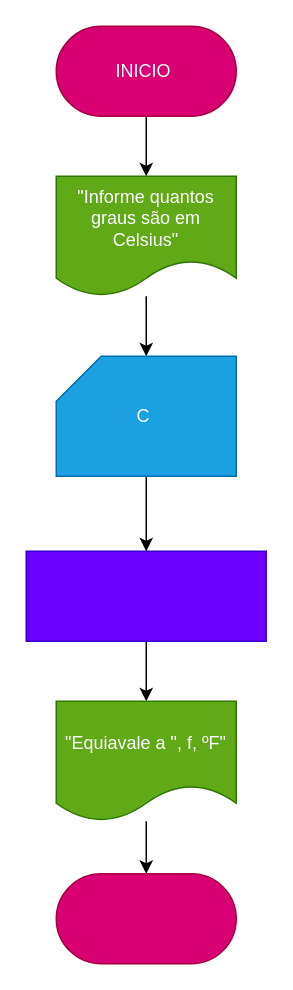
Some shapes in this 293 by 990 pixel diagram are drawn without their labels. The shapes that lost their labels are listed below. From the top down, each one's box as (x1, y1, x2, y2) in pixels, then its label:
(25, 550, 266, 641): f = (c * 1.8) + 32
(55, 872, 236, 964): FIM
